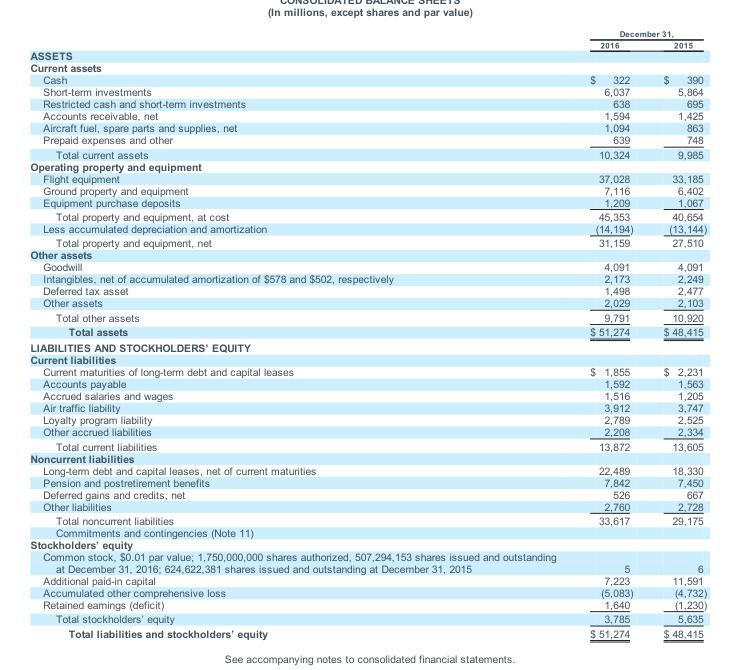table: (29, 28, 706, 638)
table column: (29, 28, 572, 638), (572, 28, 647, 638), (647, 28, 706, 638)
table column header: (29, 28, 706, 49)
table projected row header: (29, 339, 706, 353), (29, 49, 706, 61), (29, 61, 706, 73), (29, 160, 706, 172), (29, 248, 706, 260), (29, 353, 706, 365), (29, 451, 706, 463), (29, 526, 706, 538), (29, 538, 706, 550)
table row: (29, 550, 706, 574), (29, 324, 706, 339), (29, 146, 706, 160), (29, 296, 706, 310), (29, 310, 706, 324), (29, 339, 706, 353), (29, 499, 706, 513), (29, 611, 706, 625), (29, 133, 706, 146), (29, 196, 706, 209), (29, 209, 706, 222), (29, 222, 706, 235), (29, 235, 706, 248), (29, 425, 706, 438), (29, 438, 706, 451), (29, 513, 706, 526), (29, 598, 706, 611), (29, 625, 706, 638), (29, 49, 706, 61), (29, 61, 706, 73), (29, 73, 706, 85), (29, 85, 706, 97), (29, 97, 706, 109), (29, 109, 706, 121), (29, 121, 706, 133), (29, 160, 706, 172), (29, 172, 706, 184), (29, 184, 706, 196), (29, 248, 706, 260), (29, 260, 706, 272), (29, 272, 706, 284), (29, 284, 706, 296), (29, 353, 706, 365), (29, 365, 706, 377), (29, 377, 706, 389), (29, 389, 706, 401), (29, 401, 706, 413), (29, 413, 706, 425), (29, 451, 706, 463), (29, 463, 706, 475), (29, 475, 706, 487), (29, 487, 706, 499), (29, 526, 706, 538), (29, 538, 706, 550), (29, 574, 706, 586), (29, 586, 706, 598), (29, 28, 706, 39), (29, 39, 706, 49)
table spanning cell: (572, 28, 706, 39)
